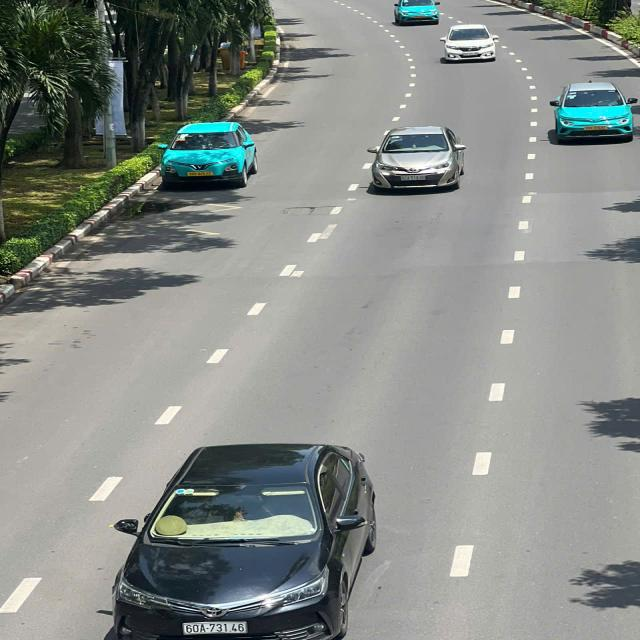car: (105, 437, 385, 640), (154, 114, 263, 194), (362, 121, 476, 197), (547, 78, 640, 149), (438, 21, 504, 66), (393, 0, 446, 27)
